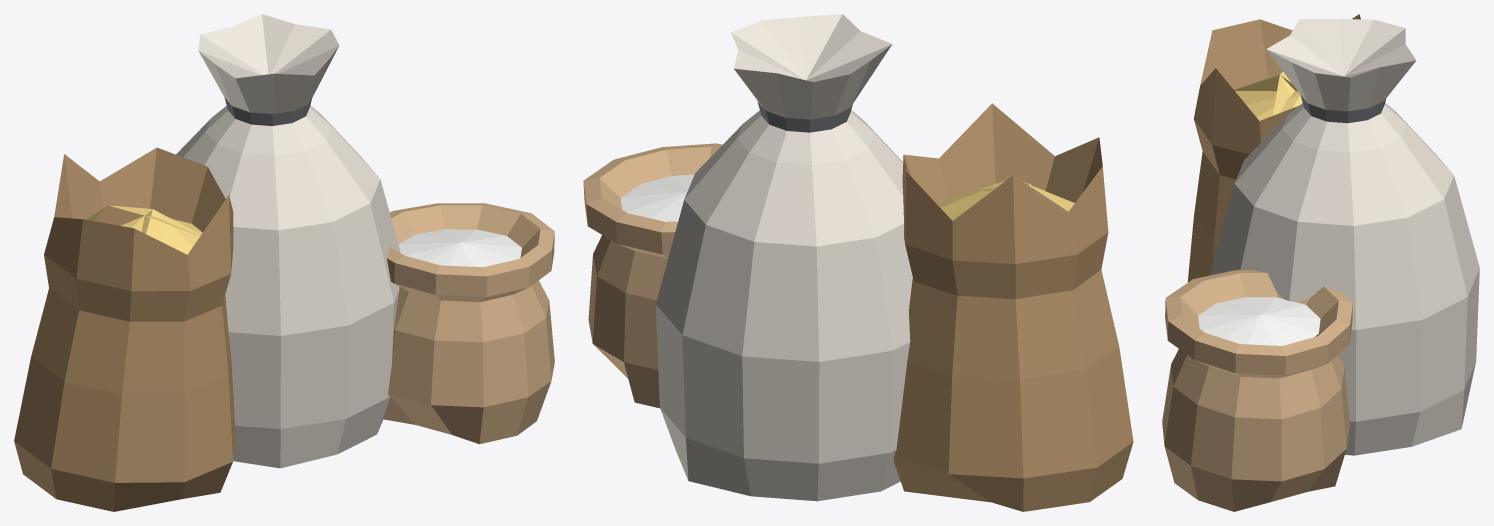
Rendered from 3sacks.fbx.
3 views of the same model, side by side, from view 1: azimuth 30°, elevation 25°; view 2: azimuth 150°, elevation 25°; view 3: azimuth 270°, elevation 25° (orthographic). The views are drawn at different scales.
Visible parts, largest first — view 1: Sack_Left, Sack_Center, Sack_Right; view 2: Sack_Center, Sack_Left, Sack_Right; view 3: Sack_Center, Sack_Right, Sack_Left.
Boxes of the visible parts, x1,y1,x2,y2 form: Sack_Left: (14, 147, 235, 511); Sack_Center: (176, 14, 400, 468); Sack_Right: (383, 203, 554, 444); Sack_Center: (655, 14, 912, 501); Sack_Left: (893, 103, 1133, 511); Sack_Right: (583, 143, 722, 408); Sack_Center: (1209, 19, 1479, 455); Sack_Right: (1162, 270, 1352, 511); Sack_Left: (1187, 14, 1360, 282).
Bounding box in the file's own units: 153 × 110 × 86.42.
